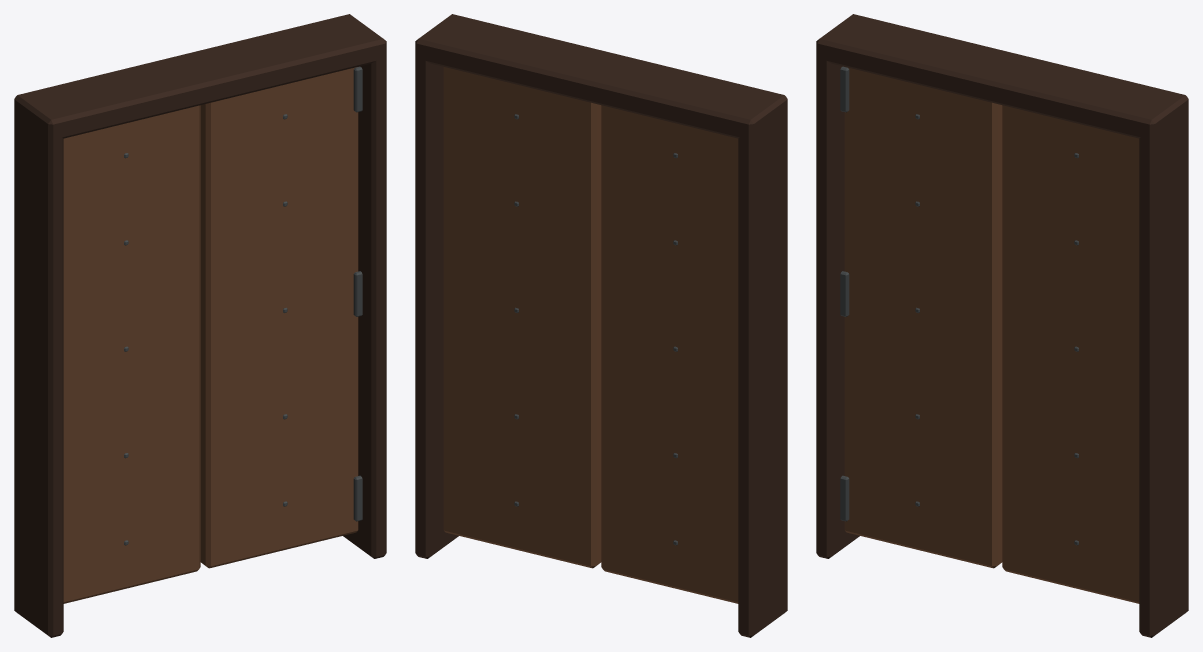
The model's file is oak_door_monumental.glb.
3 renders of one model, left to right at view 1: azimuth 30°, elevation 25°; view 2: azimuth 150°, elevation 25°; view 3: azimuth 330°, elevation 25°, orthographic.
Parts seen in each view (by area): view 1: Hoja.002, Hoja, Jamba, Dintel, Jamba.001; view 2: Hoja.002, Hoja, Jamba, Dintel, Jamba.001; view 3: Hoja, Hoja.002, Jamba.001, Dintel, Jamba.
Boxes of the visible parts, x1,y1,x2,y2 form: Hoja.002: [200, 67, 358, 568]; Hoja: [63, 105, 200, 603]; Jamba: [14, 95, 63, 637]; Dintel: [14, 14, 386, 139]; Jamba.001: [343, 14, 386, 558]; Hoja.002: [443, 67, 601, 568]; Hoja: [601, 105, 738, 603]; Jamba: [738, 93, 787, 637]; Dintel: [415, 14, 787, 139]; Jamba.001: [415, 15, 459, 558]; Hoja: [844, 67, 1002, 568]; Hoja.002: [1002, 105, 1139, 603]; Jamba.001: [1139, 93, 1188, 637]; Dintel: [816, 14, 1188, 139]; Jamba: [816, 16, 859, 558].
Size of the model in its own units: 2.6 by 3.8 by 0.5.
